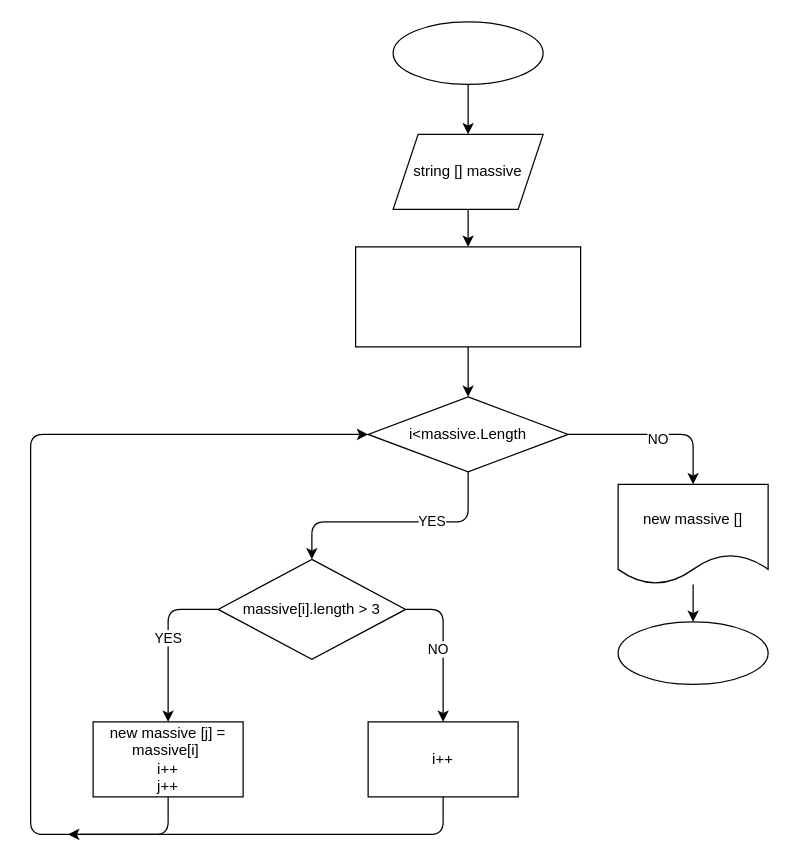
The diagram is 790 pixels wide and 866 high, and some of its shapes have lost their labels. Here are the shapes that lost their labels. From the top down, the centre of each, then its label:
At pixel 467 52: "Start".
At pixel 467 296: "string [] new massive i=0 j=0".
At pixel 692 652: "End".
